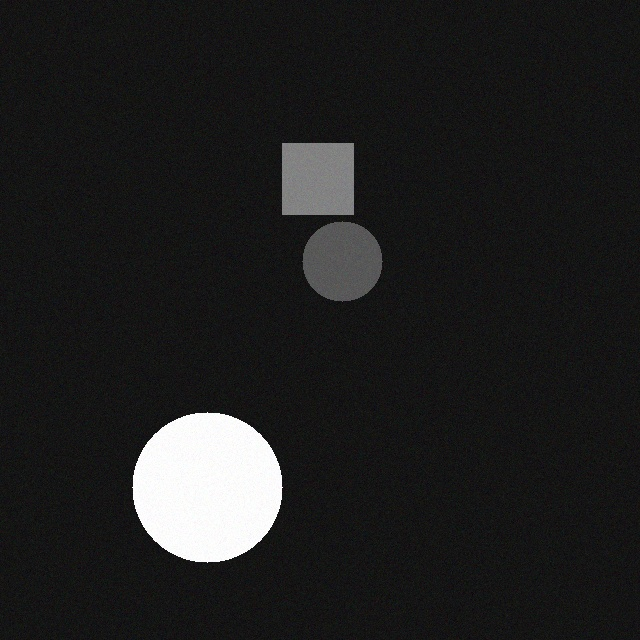circle: (127, 415, 277, 565), (297, 224, 377, 304)
square: (277, 146, 348, 217)
